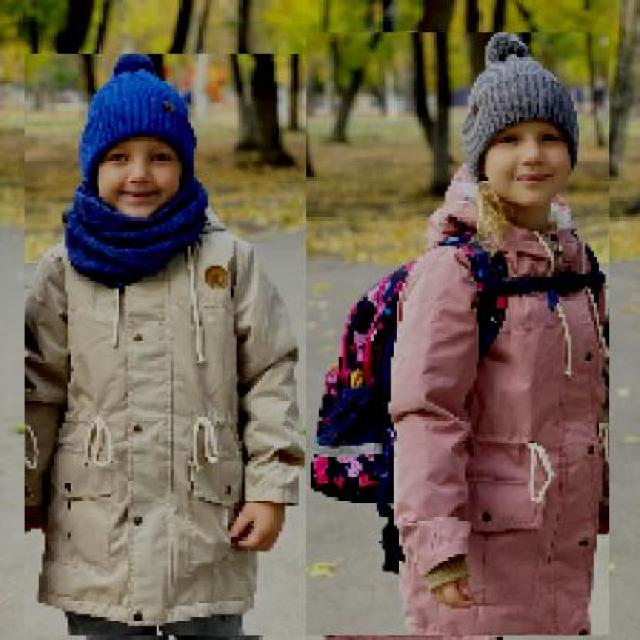child: (305, 32, 609, 637), (23, 54, 308, 637)
